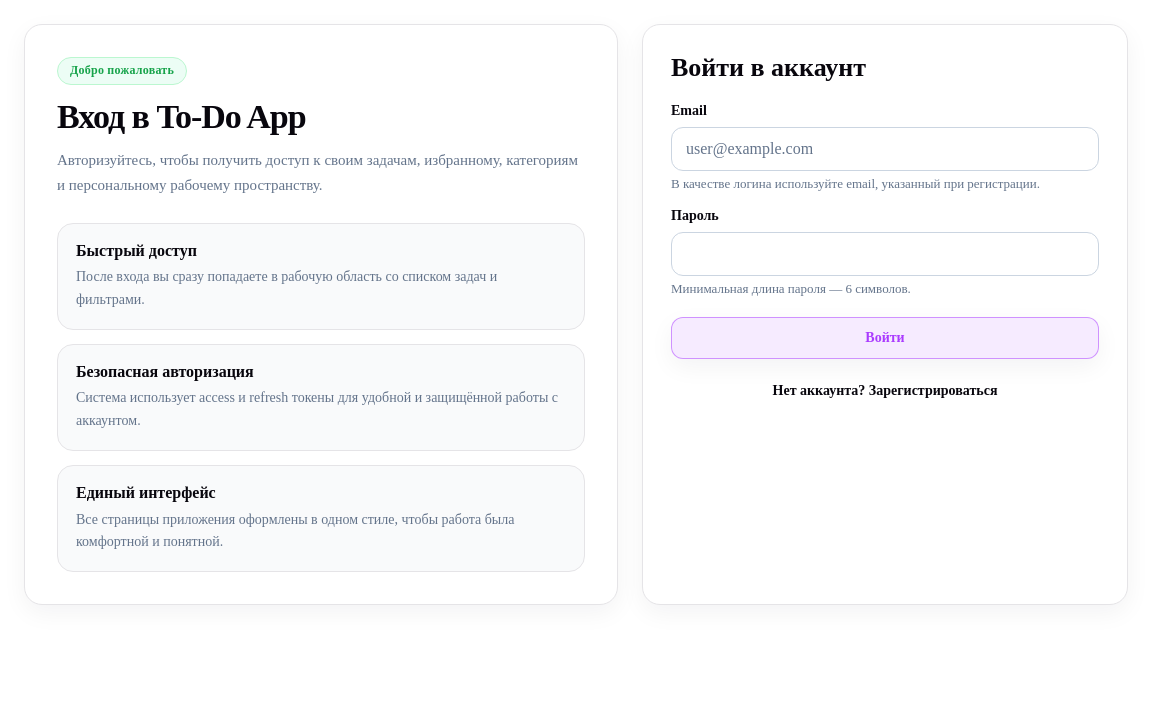
Test: Login Page › неудачный вход отображает ошибку от сервера
This screenshot has width=1152, height=720.
Type "wrong@example.com" into the field labelled "Email" at (885, 149), box x1=671 y1=127 x2=1099 y2=171
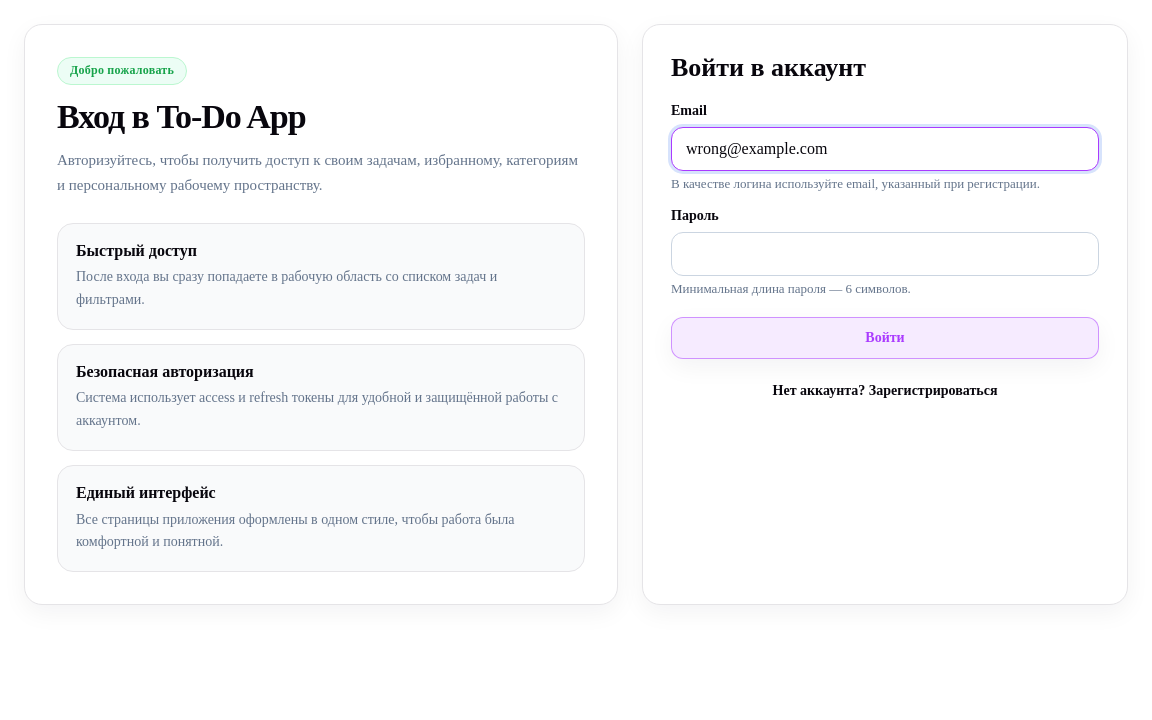
Type "wrongpass" into the password field labelled "Пароль" at (885, 254), box x1=671 y1=232 x2=1099 y2=276
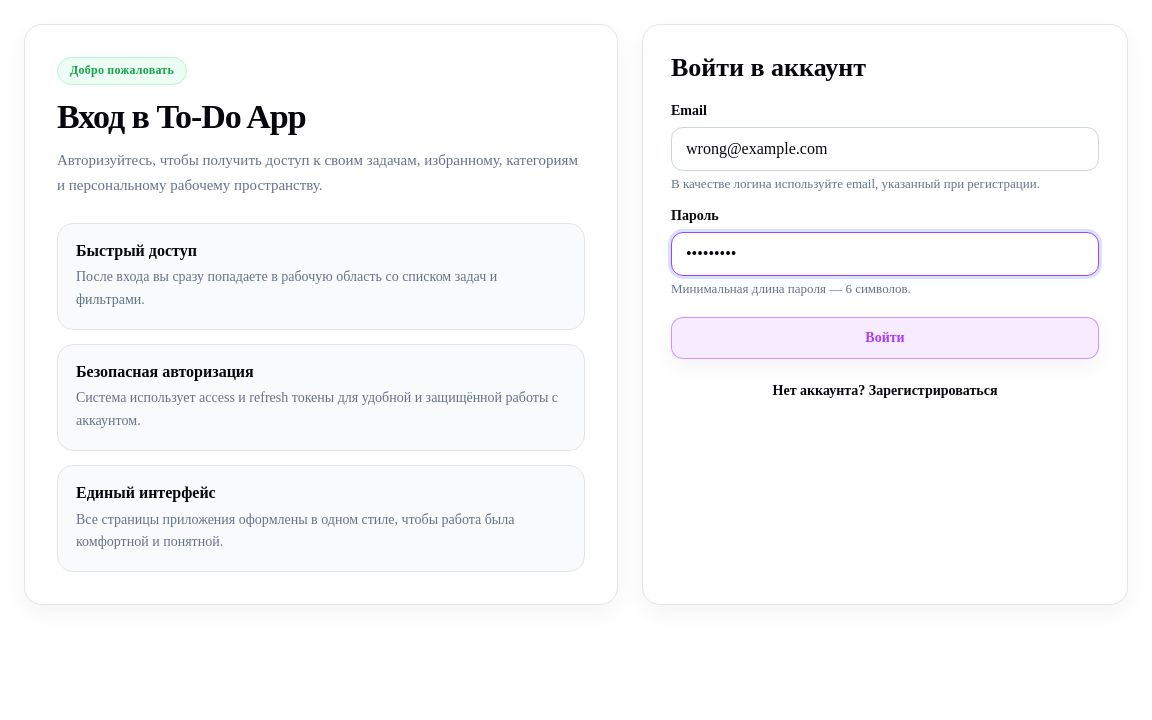
Click the button "Войти" at (885, 338), box x1=671 y1=317 x2=1099 y2=359
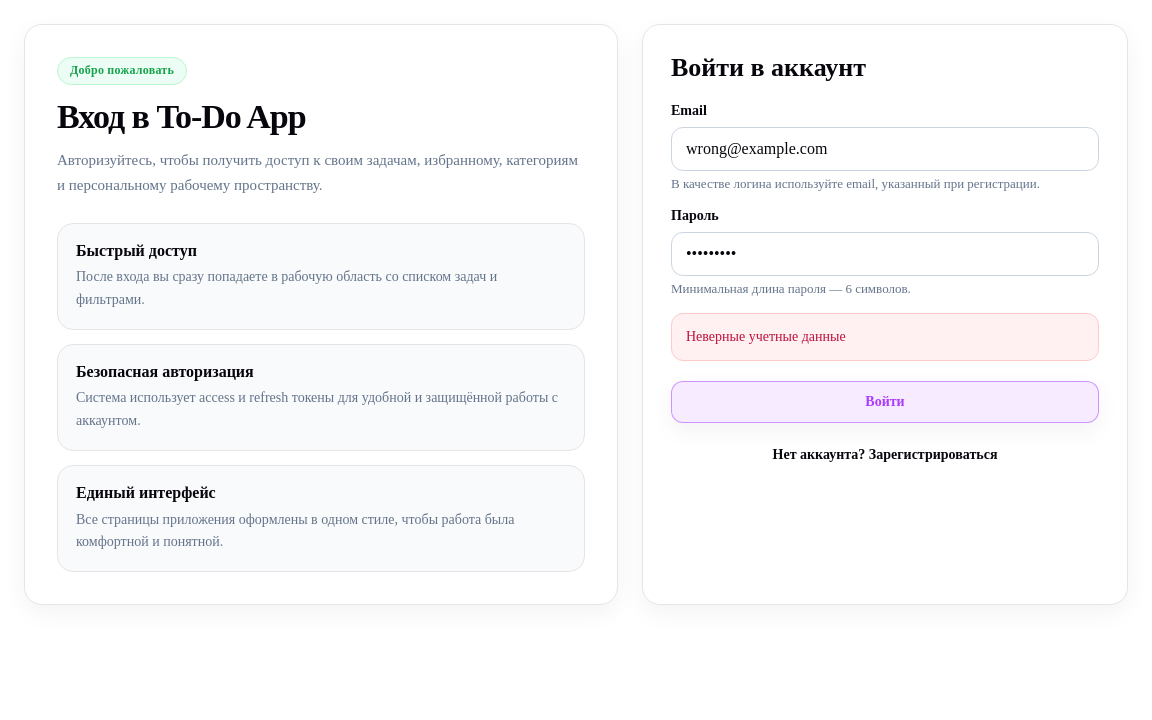
expect the message reads "Неверные учетные данные": met, box x1=686 y1=329 x2=846 y2=344
